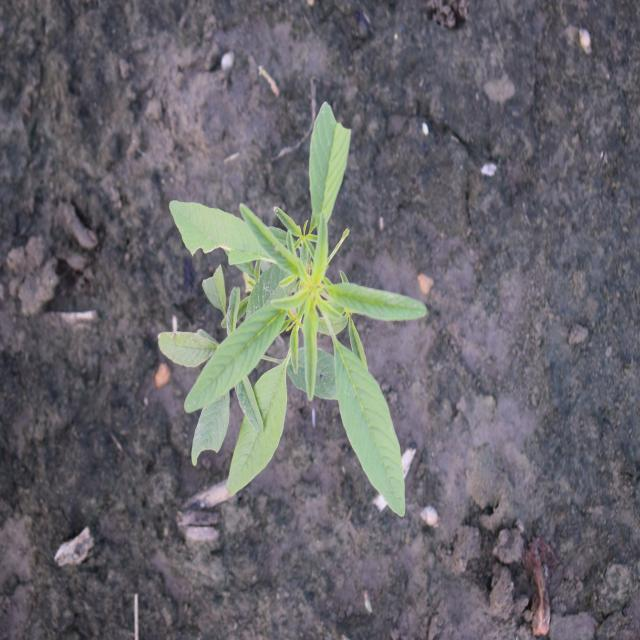Waterhemp: (156, 100, 428, 520)
